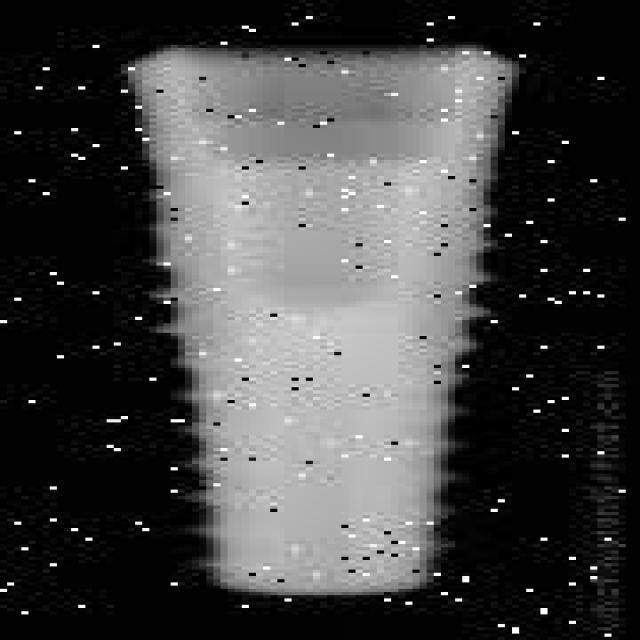Nobel Biocare Implant: (121, 48, 519, 598)
